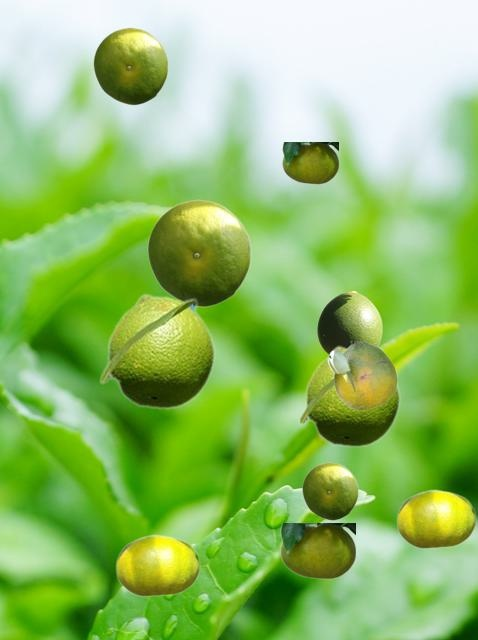dalandan: (98, 293, 215, 409), (147, 199, 250, 306), (297, 345, 400, 447), (93, 27, 167, 104), (115, 534, 199, 596), (327, 341, 396, 409), (396, 489, 475, 548), (280, 523, 354, 578), (317, 291, 381, 354), (302, 462, 357, 519), (282, 142, 337, 183)
